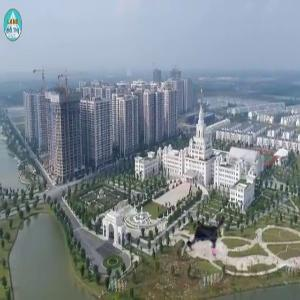drone: (176, 206, 238, 268)
